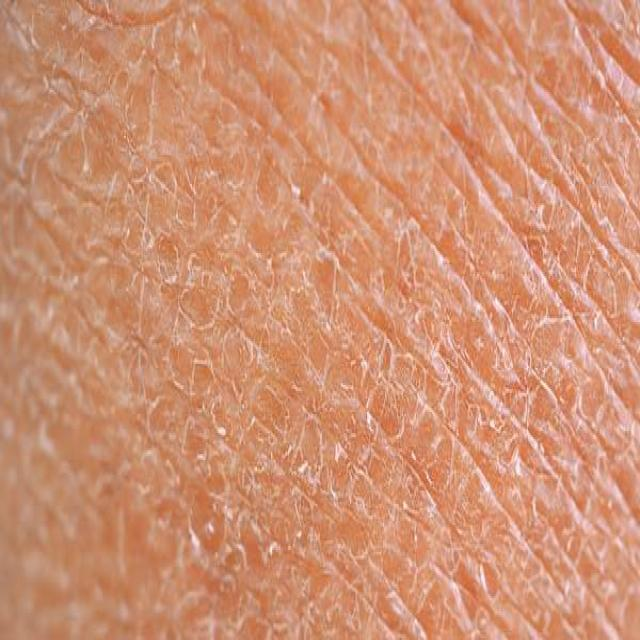Dry-Skin: (62, 21, 427, 552)
